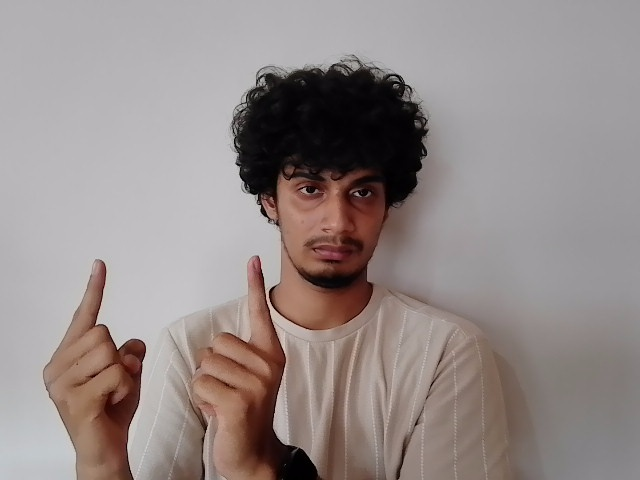play: (39, 250, 293, 449)
